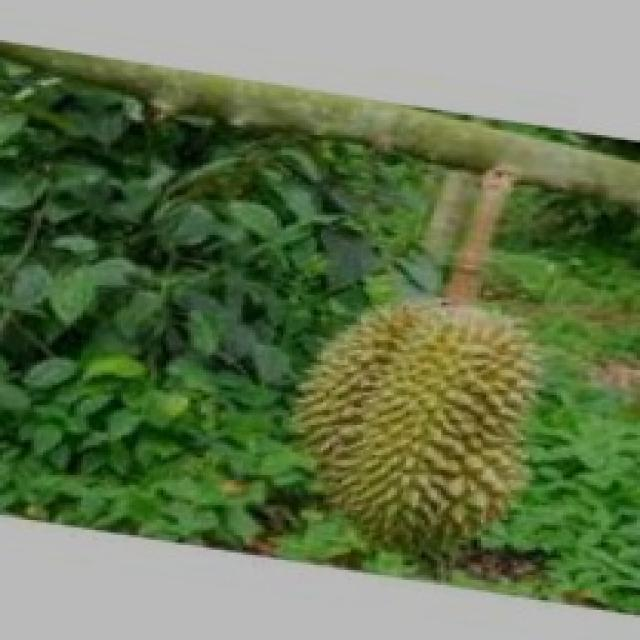fruit: (264, 260, 582, 590)
